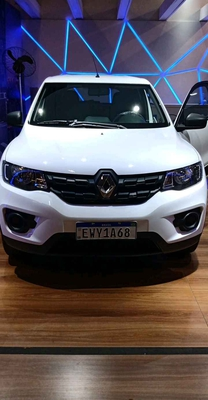Frontal Veiculo: (2, 80, 207, 259)
